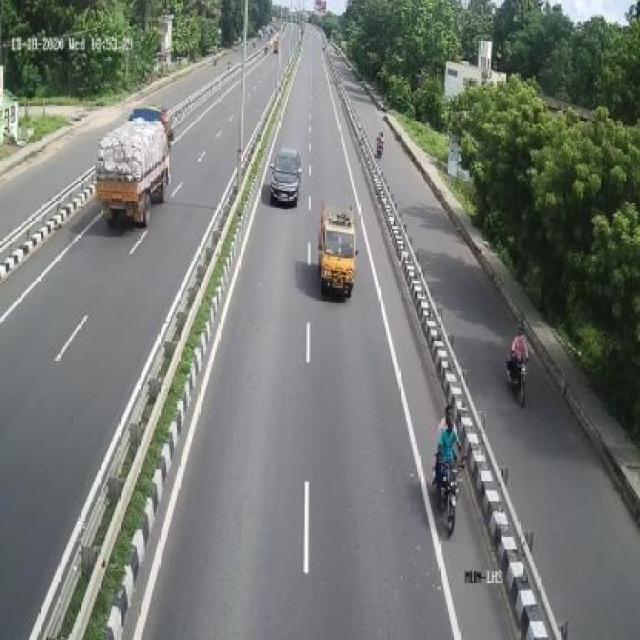car: (317, 197, 361, 300), (272, 143, 305, 208)
